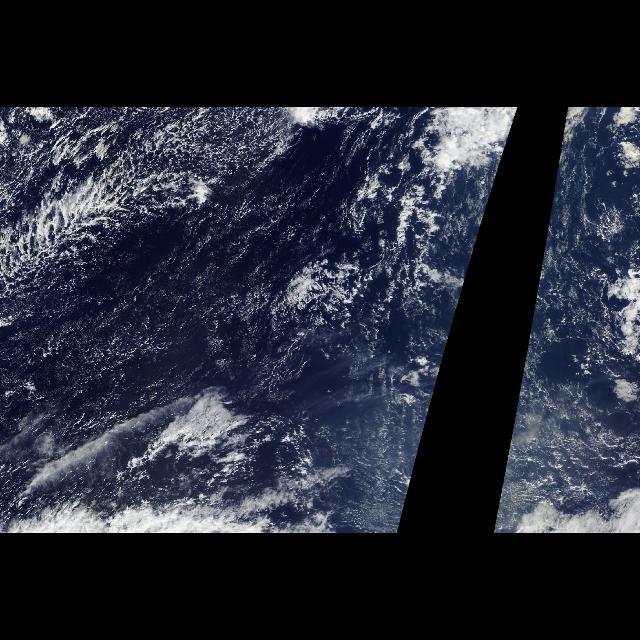Fish: (2, 107, 302, 329)
Gravel: (0, 107, 320, 291)
Sugar: (18, 196, 490, 494), (501, 319, 532, 493)
